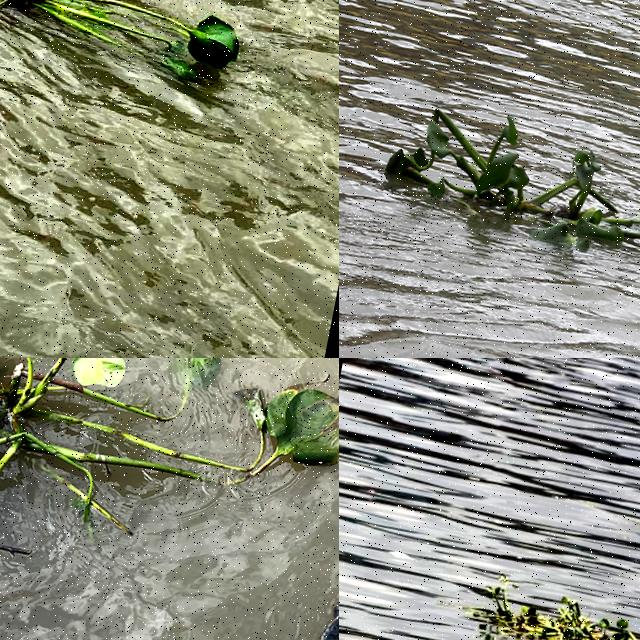water-hyacinth: (1, 359, 340, 640), (369, 87, 640, 290), (1, 1, 265, 94), (471, 576, 640, 640)
